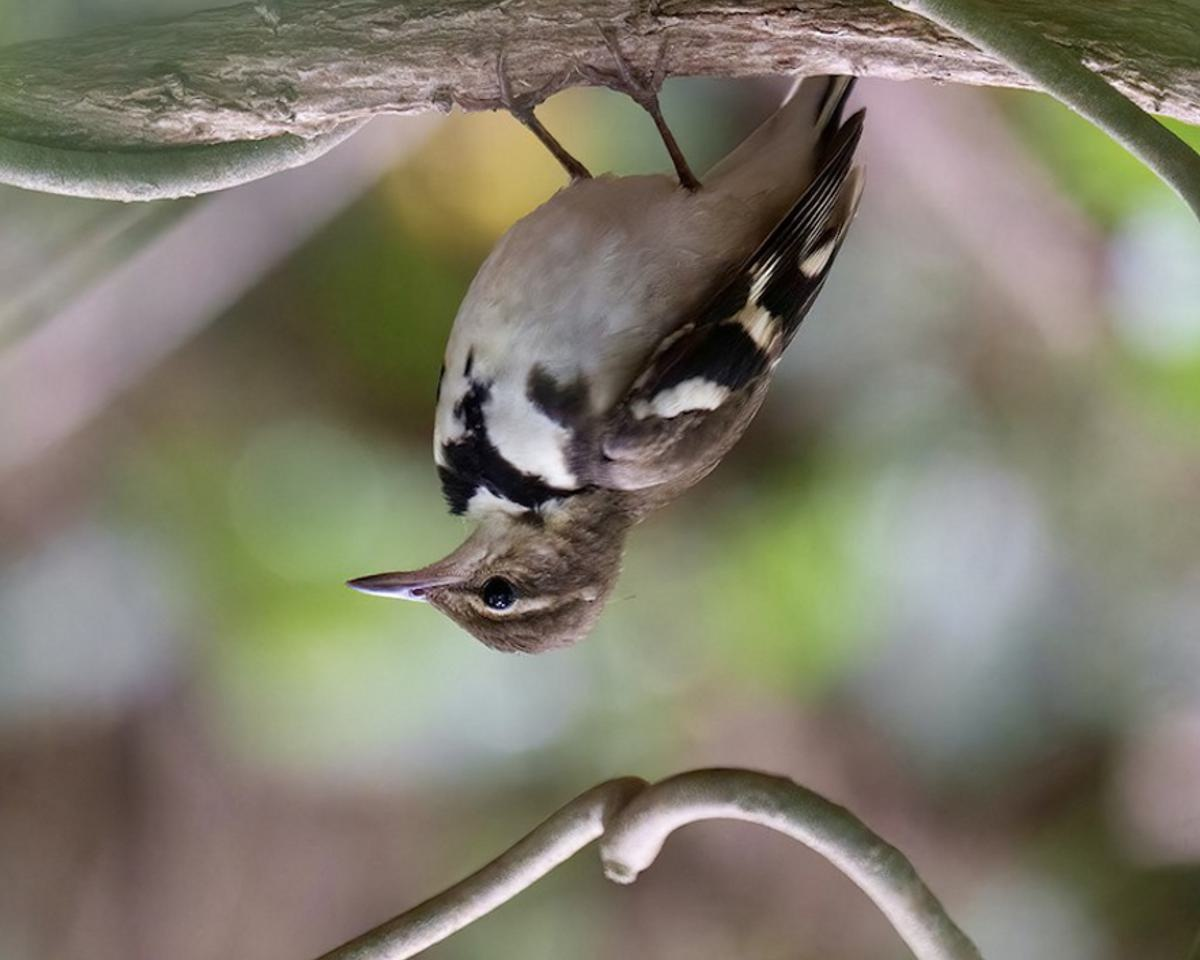wagtail: (342, 123, 886, 653)
